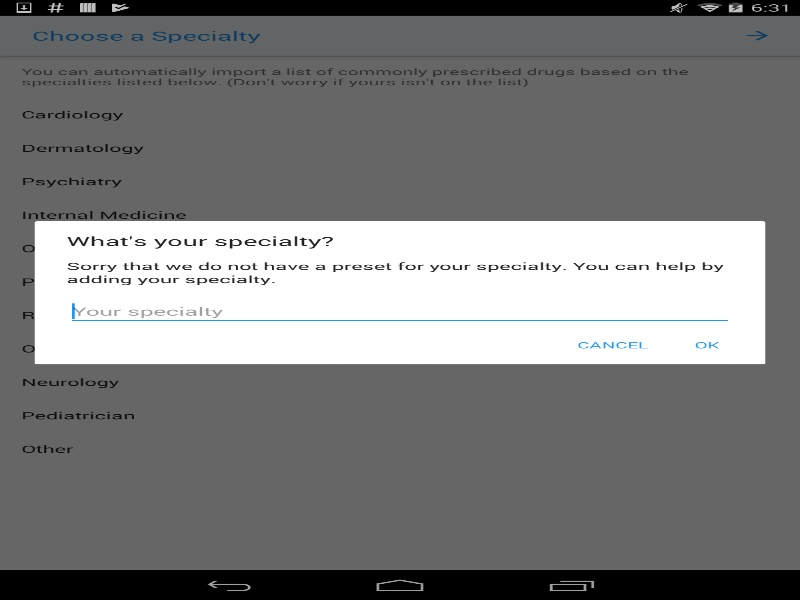Button: (561, 328, 664, 361), (664, 328, 749, 361)
Input: (66, 297, 733, 325)
